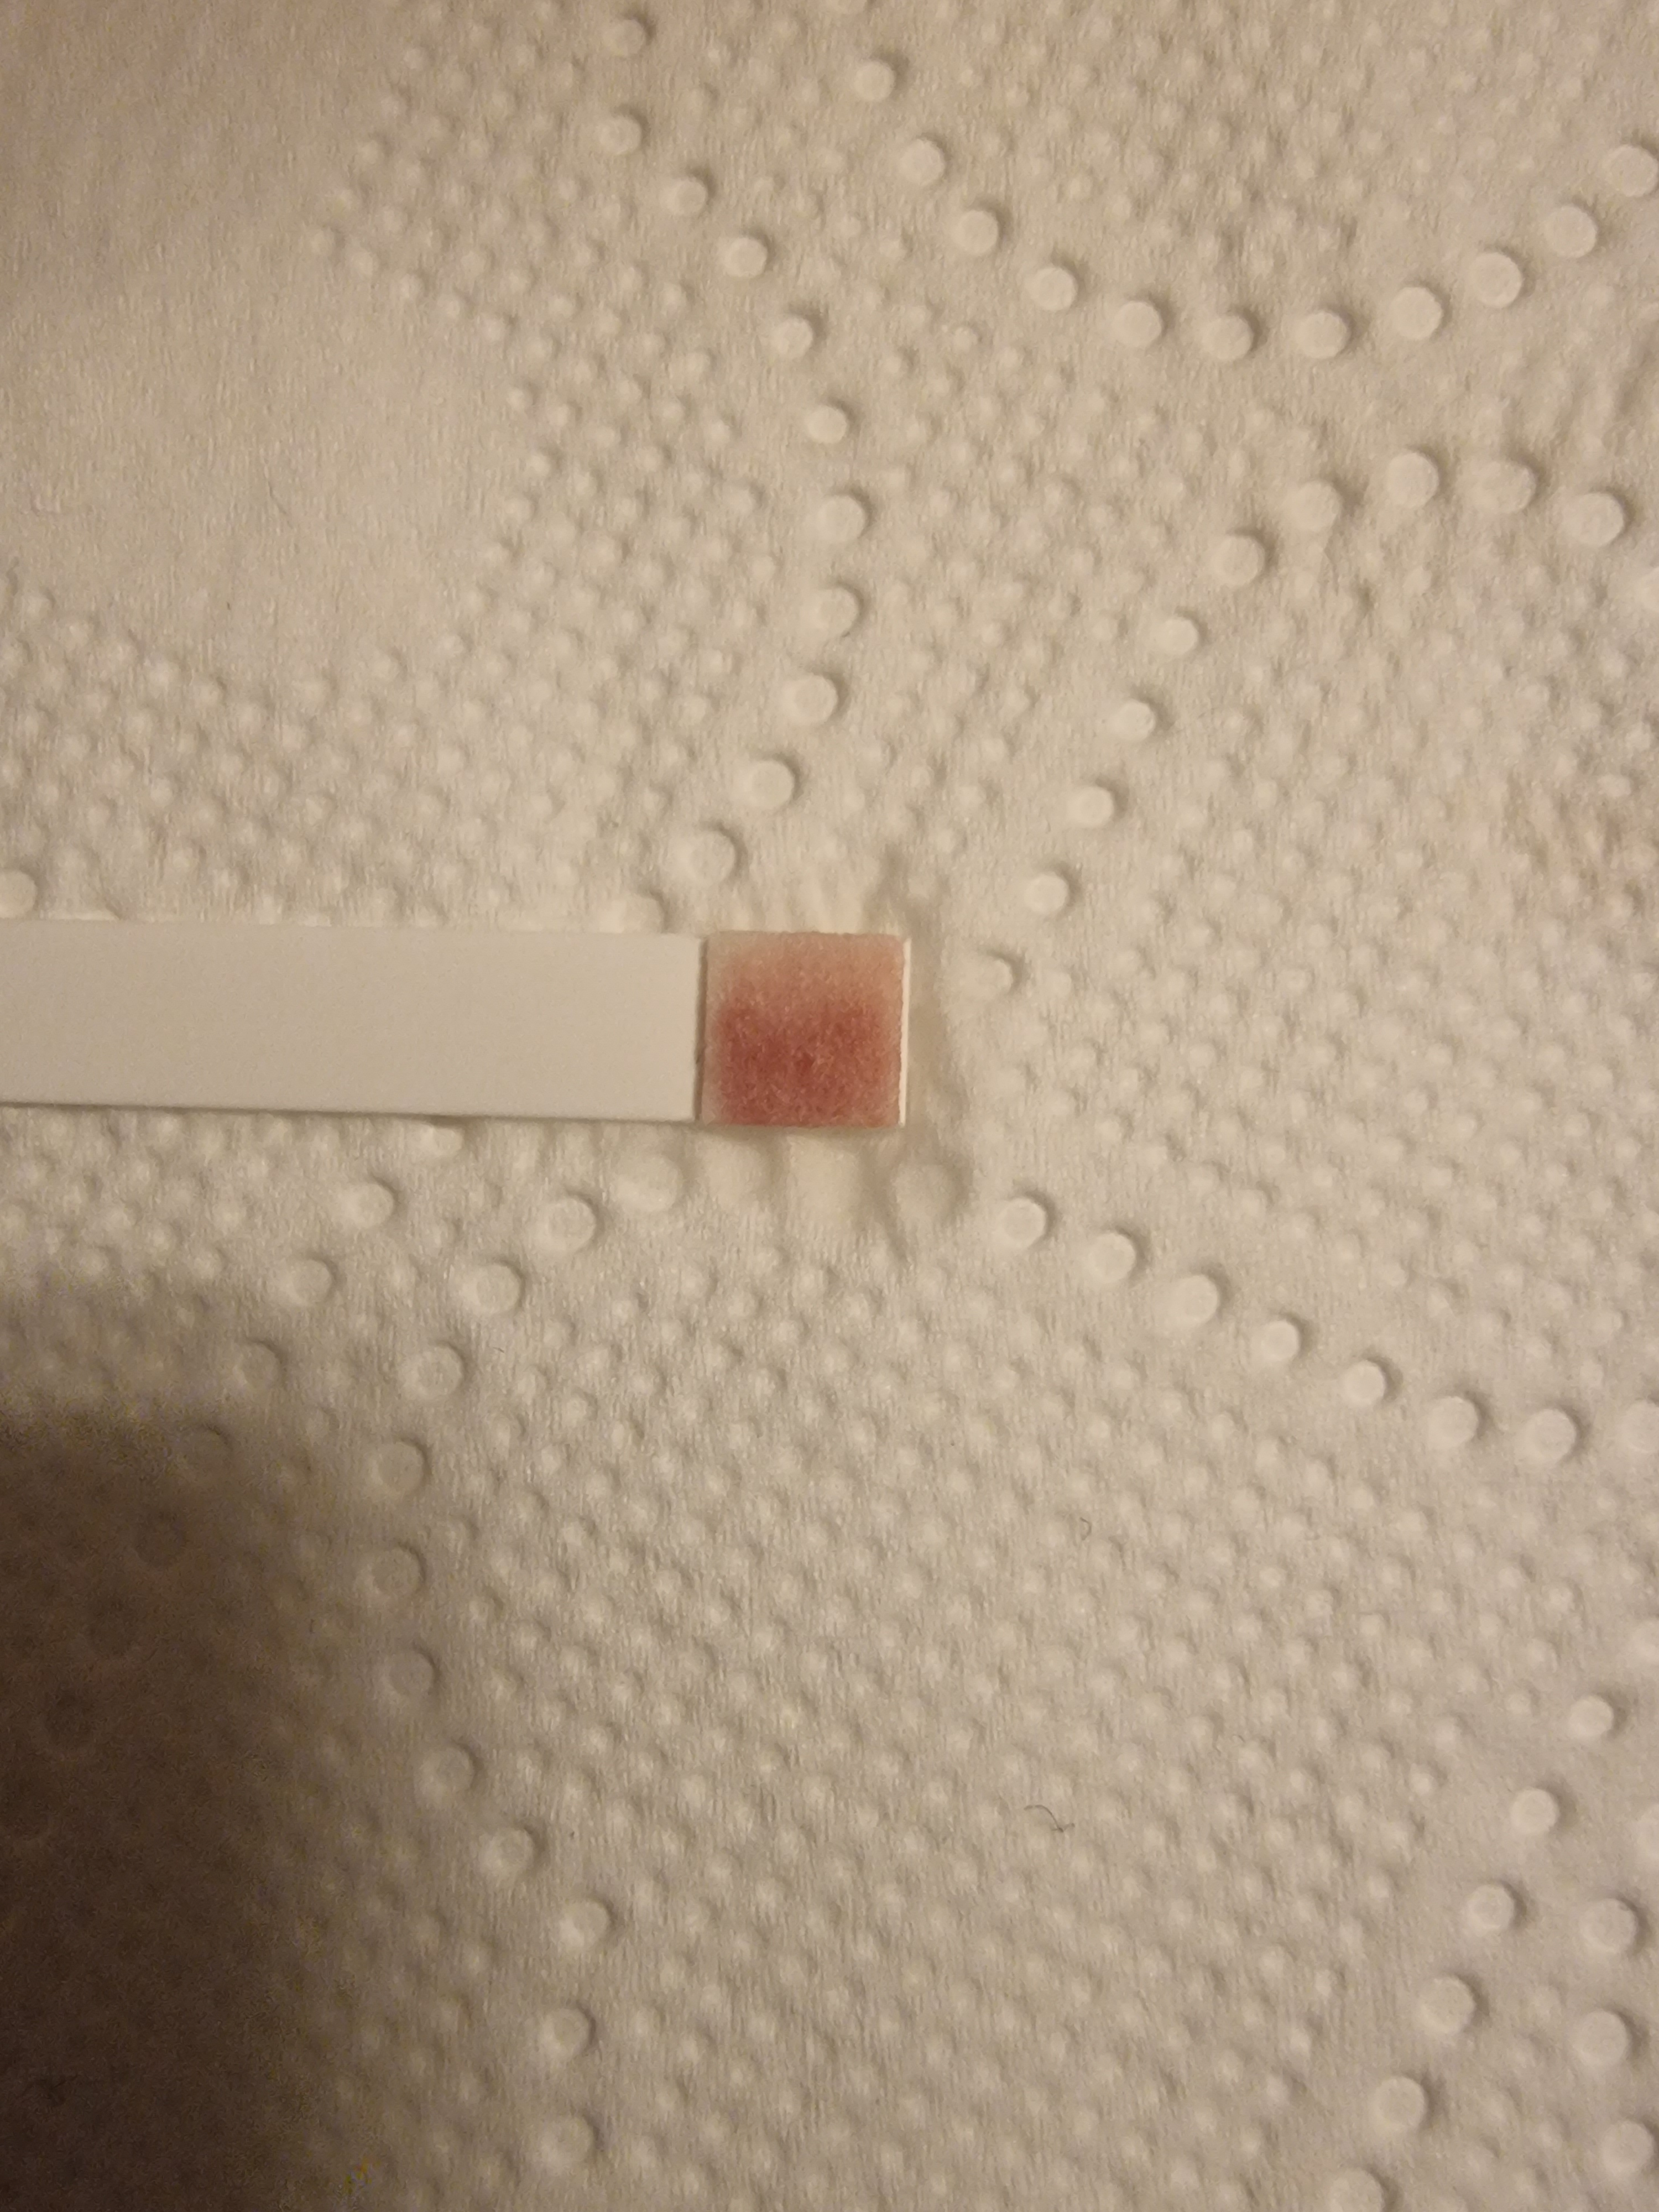keto-tip: (688, 916, 917, 1144)
